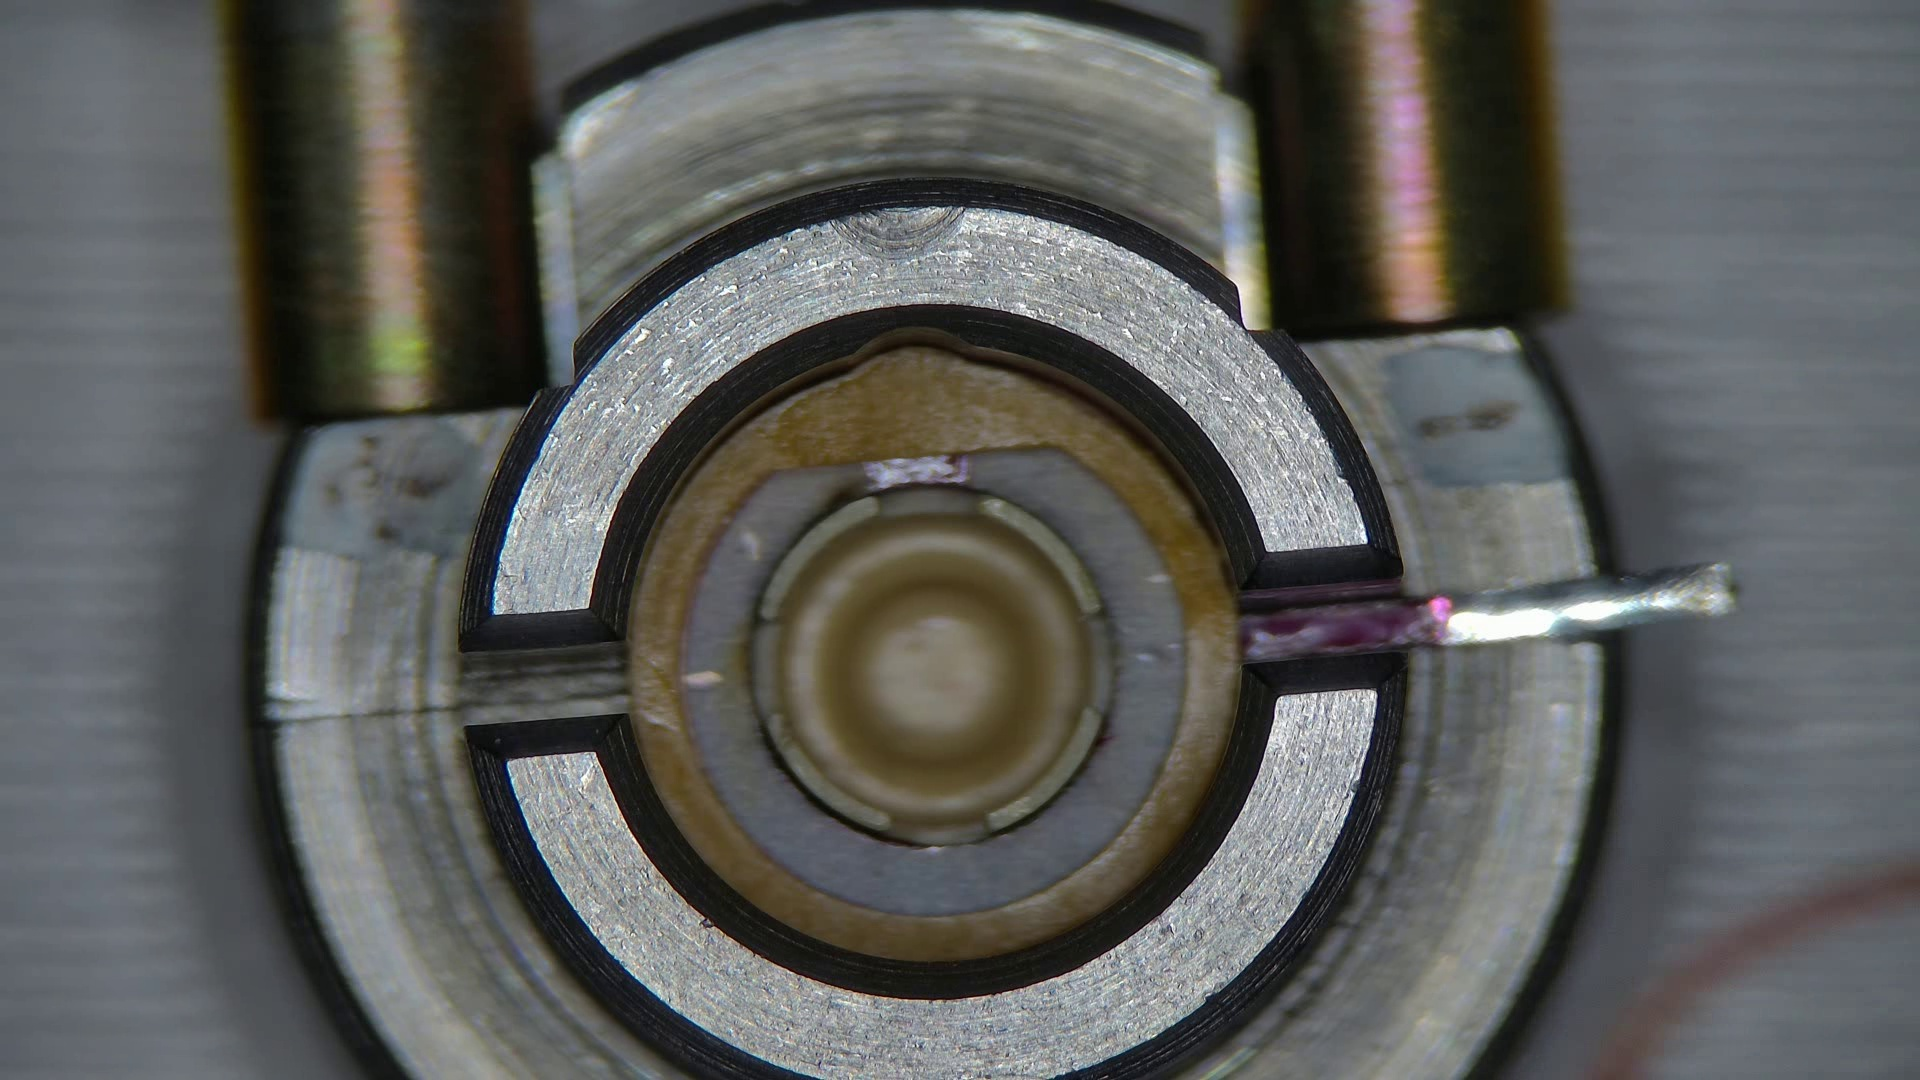GreyOring: (1604, 873, 1915, 1079)
YellowOring: (682, 450, 1184, 914)
redOring: (630, 347, 1240, 959)
